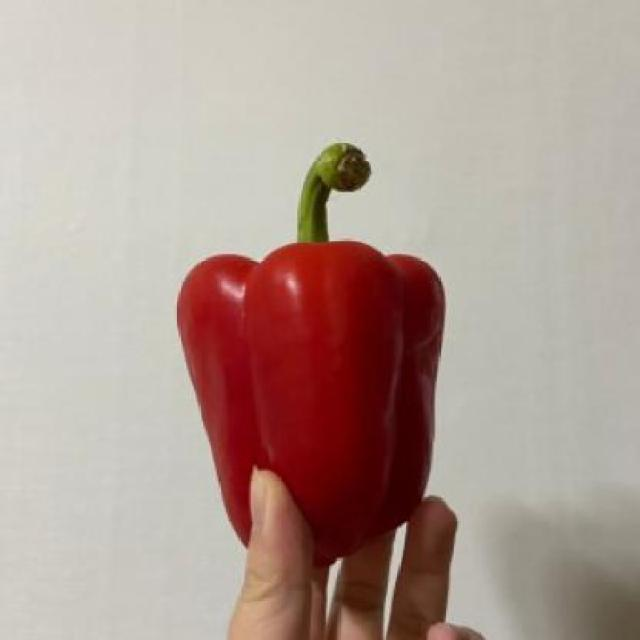Bell Pepper: (146, 116, 486, 570)
